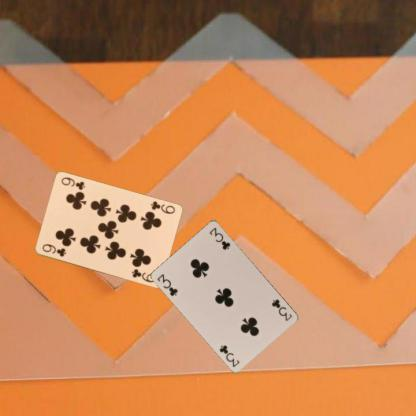3c: (155, 271, 180, 298), (269, 296, 294, 322)
9c: (148, 198, 176, 216), (39, 242, 67, 258)
